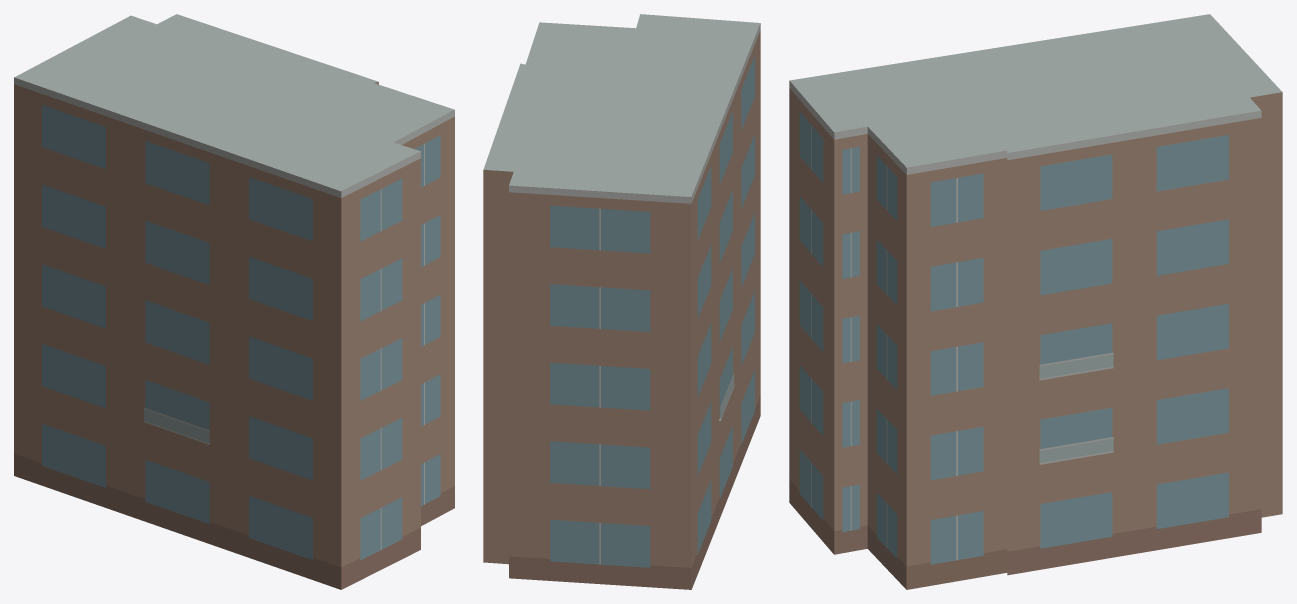
The model's file is survey-upis-32835245.glb.
The picture shows the model from 3 angles, left to right: view 1: azimuth 30°, elevation 25°; view 2: azimuth 150°, elevation 25°; view 3: azimuth 270°, elevation 25°; orthographic projection. The views are drawn at different scales.
Parts seen in each view (by area): view 1: survey-upis-32835245.tmp; view 2: survey-upis-32835245.tmp; view 3: survey-upis-32835245.tmp.
Boxes of the visible parts, x1,y1,x2,y2 form: survey-upis-32835245.tmp: (14,14,454,589); survey-upis-32835245.tmp: (483,14,760,589); survey-upis-32835245.tmp: (789,14,1282,589).
Size of the model in its own units: 11.18 by 14.3 by 15.16.
